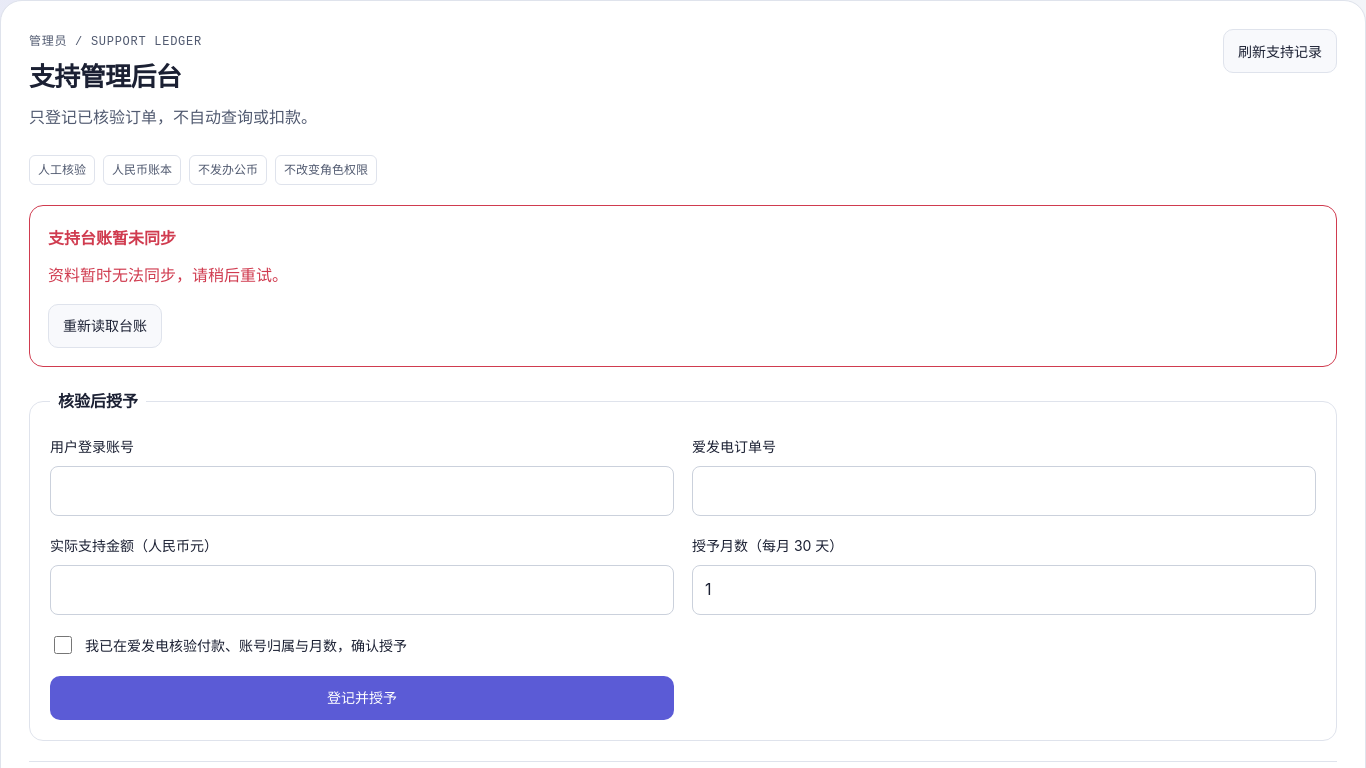
Test: fish activity and supporter management UI › distinguishes loading and failed reads from an actual empty ledger, with explicit retry
expect the message shows "支持台账暂未同步": met, box [48,228,176,248]
expect the text "¥0.00" is not shown: met
Click the button "重新读取台账" at (105, 326), box [48,304,162,348]
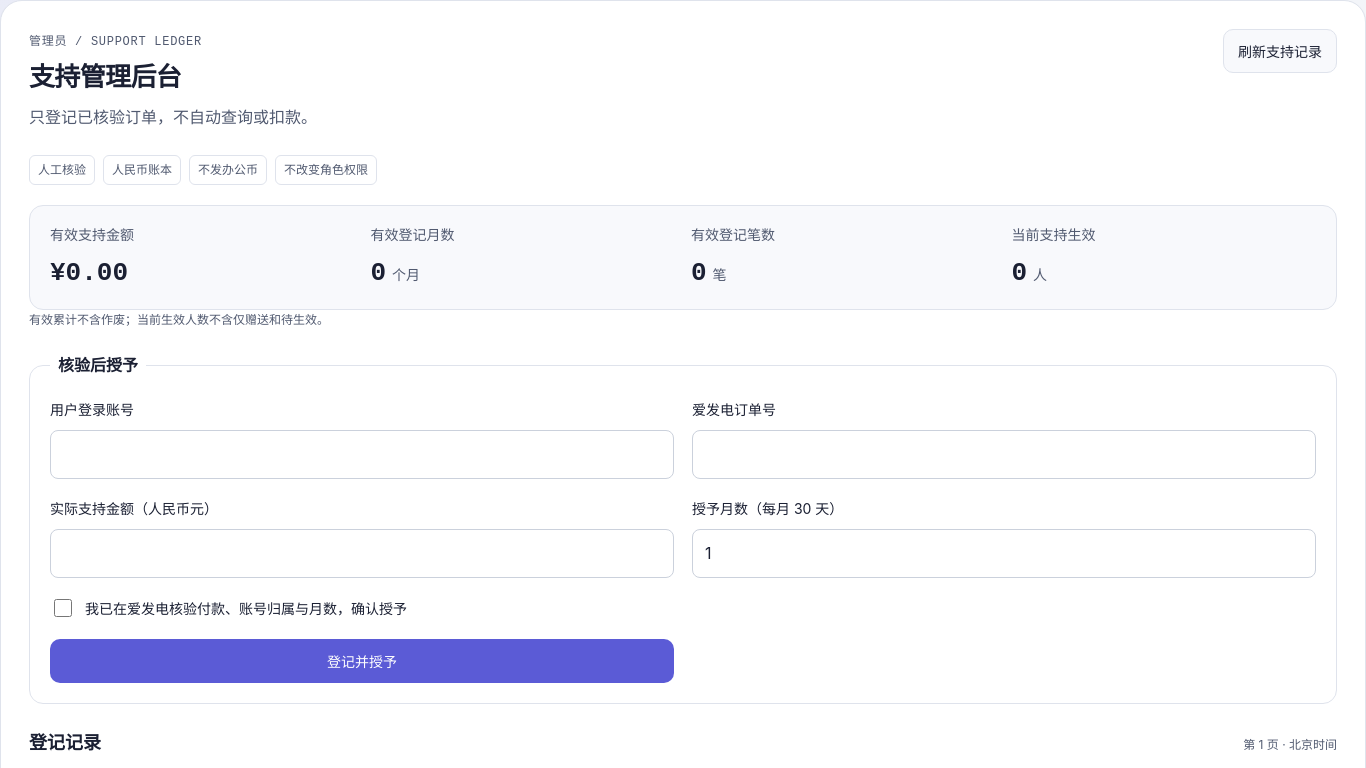
expect the text "¥0.00" is shown: met, box [50,258,128,288]
